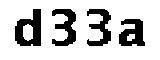3: (50, 4, 80, 50), (82, 4, 112, 49)
a: (115, 16, 147, 50)
d: (9, 5, 44, 51)
